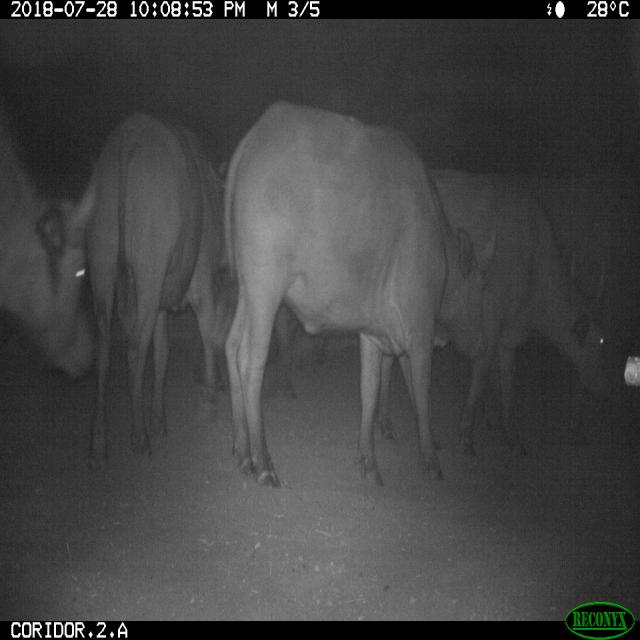buffalo: (0, 111, 485, 483)
